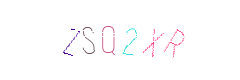2: (88, 0, 168, 80)
Q: (79, 0, 159, 80)
R: (100, 0, 180, 80)
S: (43, 0, 123, 80)
X: (90, 0, 170, 80)
Z: (30, 0, 110, 80)
